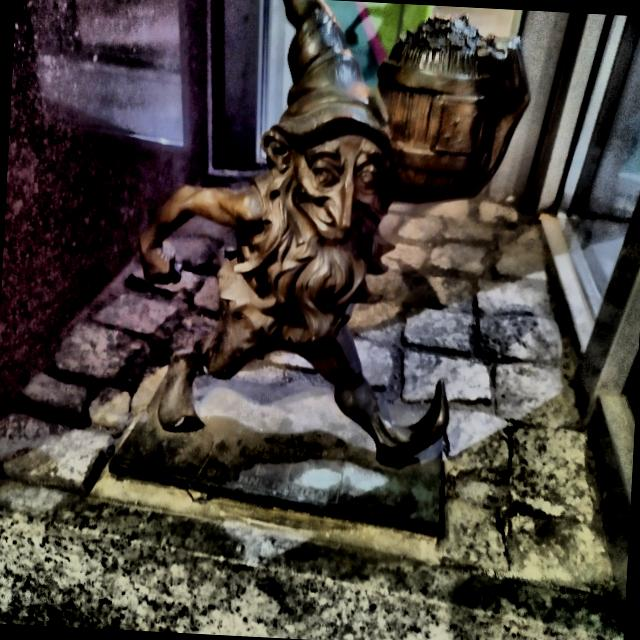Leprykonus: (116, 0, 547, 497)
